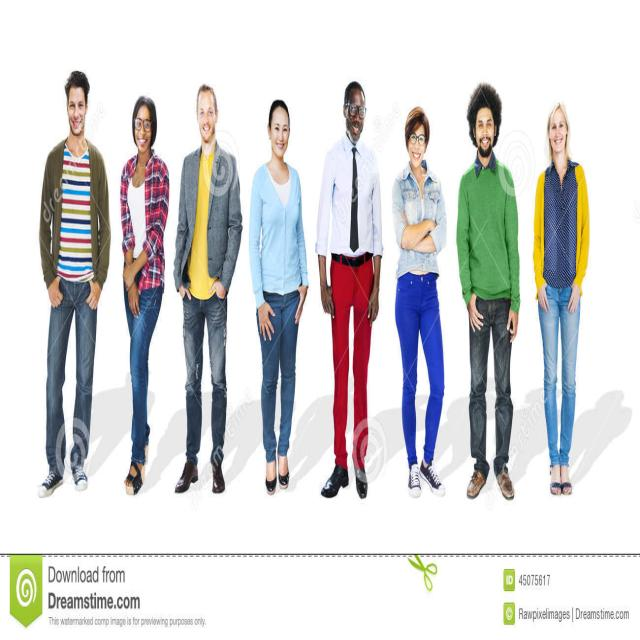standing: (35, 69, 113, 497), (172, 82, 245, 496), (315, 81, 386, 502), (456, 76, 525, 502), (530, 102, 594, 496), (248, 96, 310, 495), (391, 105, 450, 498), (124, 91, 170, 487)
